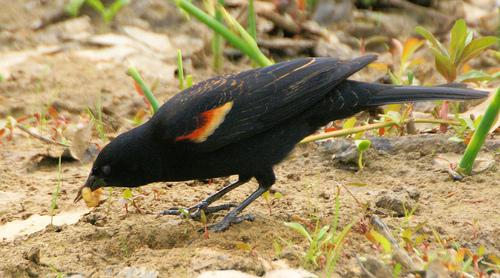010.Red_winged_Blackbird: (74, 55, 488, 234)
